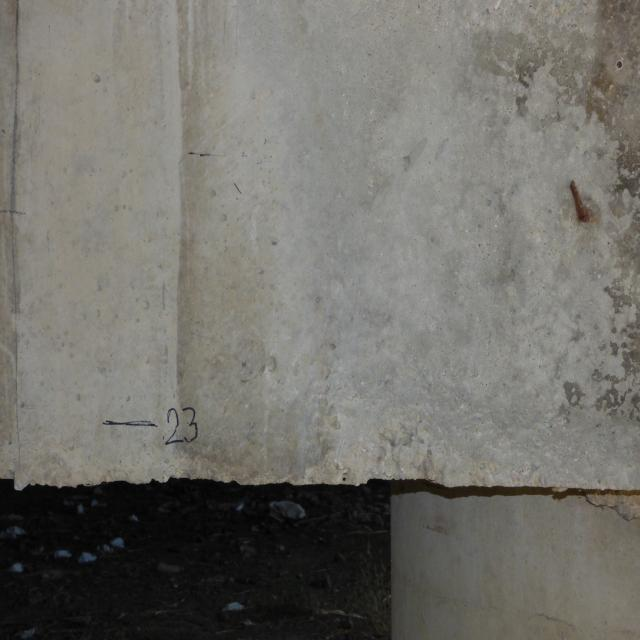corrosion: (550, 165, 598, 242)
